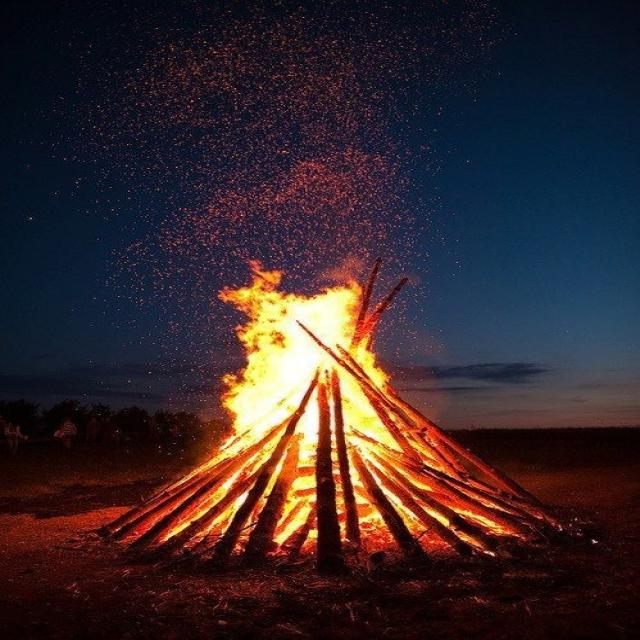fire: (170, 435, 508, 543), (216, 259, 390, 436)
